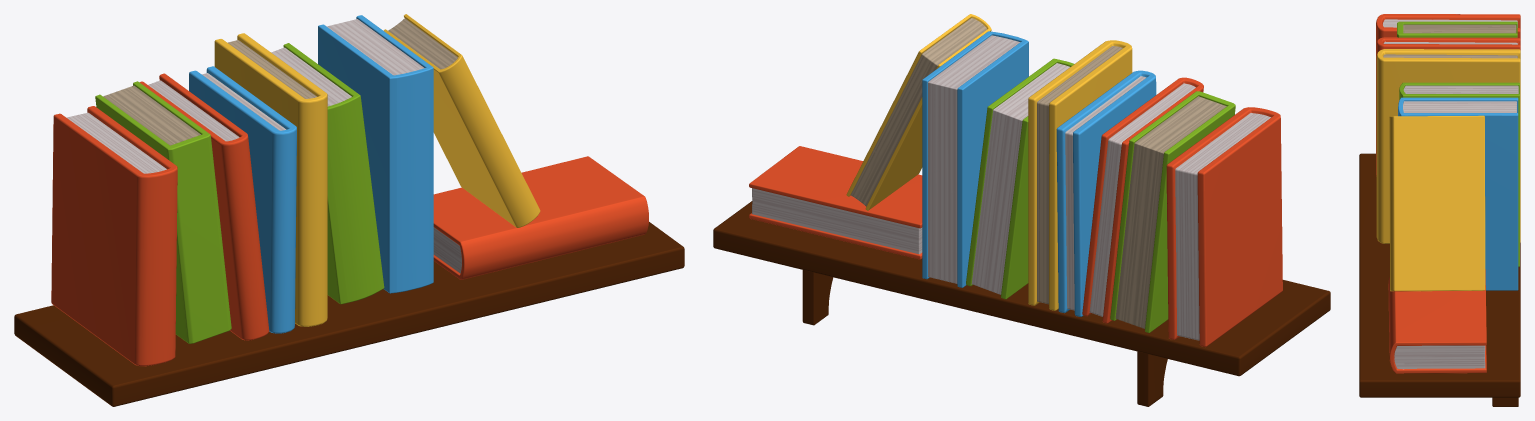
Rendered from library.glb.
3 renders of one model, left to right at view 1: azimuth 30°, elevation 25°; view 2: azimuth 150°, elevation 25°; view 3: azimuth 270°, elevation 25°, orthographic. The views are drawn at different scales.
Parts seen in each view (by area): view 1: Books_On_Shelf; view 2: Books_On_Shelf; view 3: Books_On_Shelf.
Part boxes in pixels (bbox=[...]): Books_On_Shelf: bbox=[14, 14, 684, 406]; Books_On_Shelf: bbox=[713, 14, 1330, 406]; Books_On_Shelf: bbox=[1359, 14, 1520, 406].
Bounding box in the file's own units: 24.62 × 12.57 × 7.38.
1 material, 1 textured.
